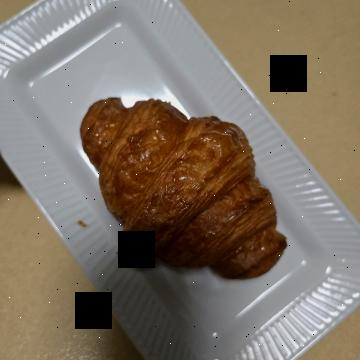croissant: (78, 51, 302, 278)
